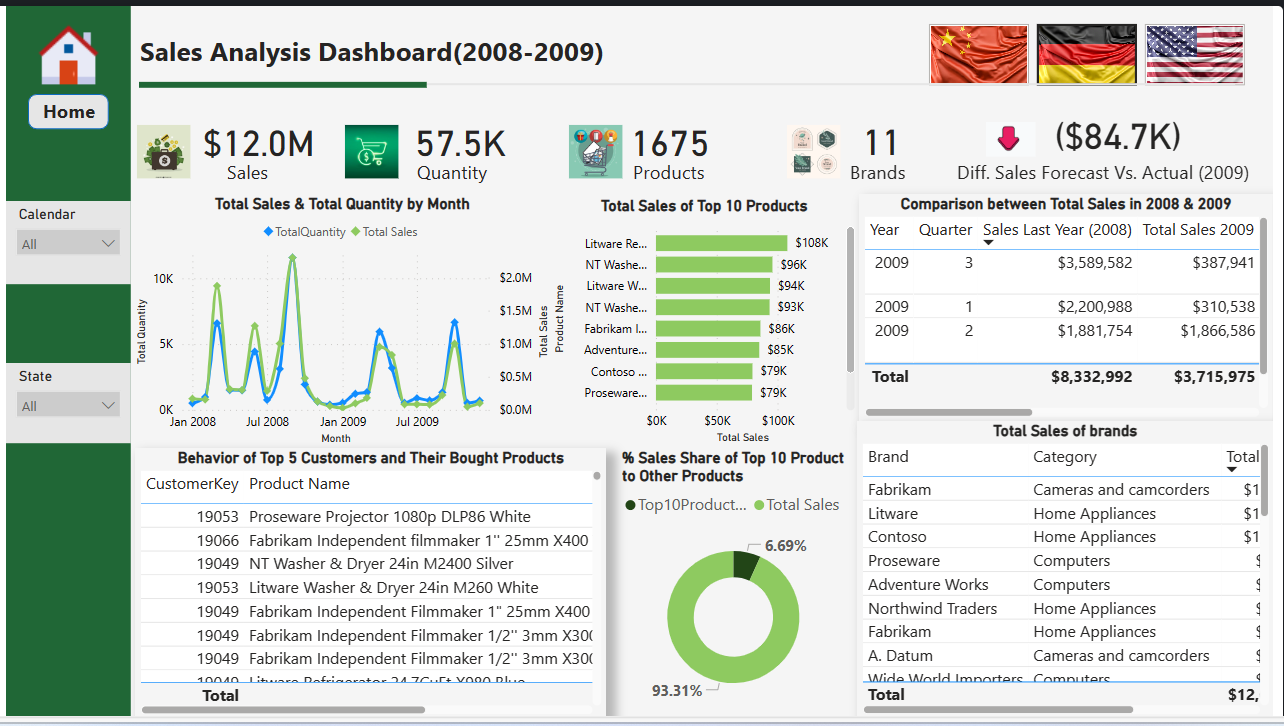

This screenshot's page, from the dashboard's own definition file:
{"tool":"powerbi","page":{"name":"Sales Dashboard","canvas":[1280,720],"ordinal":0},"visuals":[{"type":"htmlContent443BE3AD55E043BF878BED274D3A6855","fields":{"content":["Main Measures.Arrow"]},"box":[985,112,59.5,55.3],"z":0},{"type":"shape","box":[0,0,126.1,720],"z":1000},{"type":"card","title":"Total Sales","fields":{"Values":["Main Measures.Total Sales"]},"box":[180,89.8,150.2,90.7],"z":2000},{"type":"lineChart","title":"Total Sales & Total Quantity by Month","fields":{"Y2":["Main Measures.Total Sales"],"Y":["Main Measures.TotalQuantity"],"Category":["DateTable.Date.Variation.Date Hierarchy.Year","DateTable.Date.Variation.Date Hierarchy.Quarter","DateTable.Date.Variation.Date Hierarchy.Month"]},"box":[126.5,189.7,427.1,256.8],"z":3000},{"type":"clusteredBarChart","title":"Total Sales of Top 10 Products","fields":{"Category":["Products.Product Name"],"Y":["Main Measures.Total Sales"]},"box":[548.4,192.3,313.5,254.2],"z":4000},{"type":"donutChart","title":"% Sales Share of Top 10 Product to Other Products","fields":{"Y":["Measures (2).Top10ProductsSales","Measures (2).TotalSales"]},"box":[617.4,446.6,235,272.9],"z":5000},{"type":"tableEx","title":"Comparison between Total Sales in 2008 & 2009","fields":{"Values":["DateTable.Year","DateTable.Quarter","Main Measures.Sales Last Year (2008)","Main Measures.Total Sales 2009","Main Measures.Sales difference YoY","Main Measures.Best Selling Product in 2009"]},"box":[861.7,189.9,418.1,229.6],"z":6000},{"type":"tableEx","title":"Behavior of Top 5 Customers and Their Bought Products","fields":{"Values":["Customers.CustomerKey","Products.Product Name","Main Measures.Total Sales","Main Measures.TotalQuantity"]},"box":[130.4,446.5,476.2,273.5],"z":7000},{"type":"card","title":"Sales Difference actual Vs. forecast (2009)","fields":{"Values":["Main Measures.difference forecast"]},"box":[1041.7,83.6,161.6,89.3],"z":8000},{"type":"card","title":"Total Quantity","fields":{"Values":["Main Measures.TotalQuantity"]},"box":[393.6,89.8,129,90.6],"z":9000},{"type":"card","title":"No. Products","fields":{"Values":["Main Measures.count distinct product"]},"box":[606,89.8,129.2,90.6],"z":10000},{"type":"card","title":"No. Brands","fields":{"Values":["Count(Forecast.Brand)"]},"box":[818.5,90.1,130,90],"z":11000},{"type":"tableEx","title":"Total Sales of brands","fields":{"Values":["Products.Brand","Products.Category","Main Measures.Total Sales","Divide(Main Measures.Total Sales, ScopedEval(Main Measures.Total Sales, []))"]},"box":[859.4,419.4,420.6,300.6],"z":12000},{"type":"textbox","box":[130.4,21.3,549.9,48.2],"z":13000},{"type":"advancedSlicerVisual","fields":{"Values":["country slicer.Flag"]},"box":[926.9,12.8,331.7,214],"z":14000},{"type":"shape","box":[228.2,55.3,1013.4,46.8],"z":15000},{"type":"shape","box":[134.6,69.4,290.6,19.8],"z":16000},{"type":"textbox","box":[218.1,149.8,99,41.9],"z":17000},{"type":"image","box":[337.4,113.1,63.7,67.1],"z":18000},{"type":"textbox","box":[409.6,149.8,144.6,42.5],"z":19000},{"type":"textbox","box":[627.9,149.8,104.9,35.4],"z":20000},{"type":"image","box":[563.6,112.7,63.8,66.7],"z":21000},{"type":"textbox","box":[847.6,149.8,137.5,46.8],"z":22000},{"type":"textbox","box":[954.8,149.7,325.2,40],"z":23000},{"type":"image","box":[783.1,112.7,63.8,66.7],"z":24000},{"type":"image","box":[127.5,113.1,63.7,67.1],"z":25000},{"type":"slicer","fields":{"Values":["DateTable.Date.Variation.Date Hierarchy.Year","DateTable.Date.Variation.Date Hierarchy.Quarter","DateTable.Date.Variation.Date Hierarchy.Month","DateTable.Date.Variation.Date Hierarchy.Day"]},"box":[0,197,126.1,83.6],"z":26000},{"type":"slicer","fields":{"Values":["Customers.State"]},"box":[0,360,126.1,80.8],"z":27000},{"type":"image","box":[22.7,7.1,82.2,83.6],"z":28000},{"type":"shape","box":[22.2,89,81.6,35.6],"z":29000},{"type":"textbox","box":[32.6,87.5,71.2,37.1],"z":30000}]}

Visuals, with their boxes on the page's 1280x720 design canvas (x1, y1, x2, y2). These are canvas units, not pixel positions in the 1284x726 screenshot, which may show the page scaled, cropped or inside an application window:
htmlContent443BE3AD55E043BF878BED274D3A6855 - Main Measures.Arrow: crop(985, 112, 1044, 167)
shape: crop(0, 0, 126, 720)
"Total Sales" card: crop(180, 90, 330, 180)
"Total Sales & Total Quantity by Month" lineChart: crop(126, 190, 554, 446)
"Total Sales of Top 10 Products" clusteredBarChart: crop(548, 192, 862, 446)
"% Sales Share of Top 10 Product to Other Products" donutChart: crop(617, 447, 852, 720)
"Comparison between Total Sales in 2008 & 2009" tableEx: crop(862, 190, 1280, 420)
"Behavior of Top 5 Customers and Their Bought Products" tableEx: crop(130, 446, 607, 720)
"Sales Difference actual Vs. forecast (2009)" card: crop(1042, 84, 1203, 173)
"Total Quantity" card: crop(394, 90, 523, 180)
"No. Products" card: crop(606, 90, 735, 180)
"No. Brands" card: crop(818, 90, 948, 180)
"Total Sales of brands" tableEx: crop(859, 419, 1280, 720)
textbox: crop(130, 21, 680, 70)
advancedSlicerVisual - country slicer.Flag: crop(927, 13, 1259, 227)
shape: crop(228, 55, 1242, 102)
shape: crop(135, 69, 425, 89)
textbox: crop(218, 150, 317, 192)
image: crop(337, 113, 401, 180)
textbox: crop(410, 150, 554, 192)
textbox: crop(628, 150, 733, 185)
image: crop(564, 113, 627, 179)
textbox: crop(848, 150, 985, 197)
textbox: crop(955, 150, 1280, 190)
image: crop(783, 113, 847, 179)
image: crop(128, 113, 191, 180)
slicer - DateTable.Date.Variation.Date Hierarchy.Year x DateTable.Date.Variation.Date Hierarchy.Quarter: crop(0, 197, 126, 281)
slicer - Customers.State: crop(0, 360, 126, 441)
image: crop(23, 7, 105, 91)
shape: crop(22, 89, 104, 125)
textbox: crop(33, 88, 104, 125)
